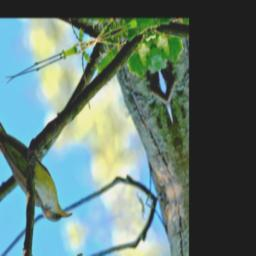Cuckoo: (0, 73, 73, 245)
